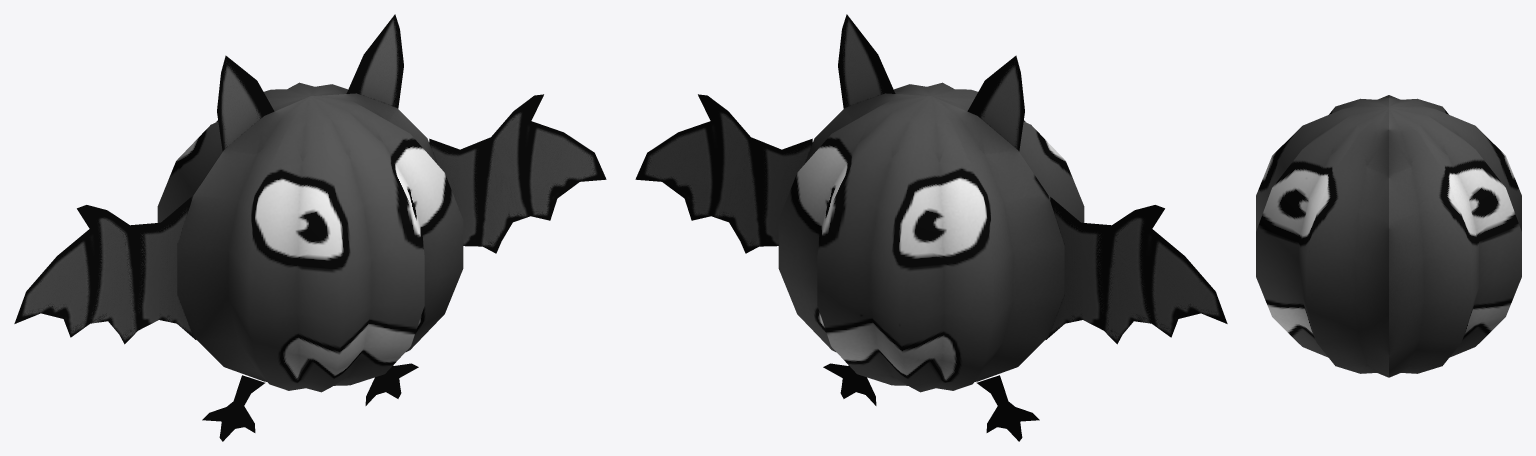
The model's file is HW_BatOrnament.fbx.
3 renders of one model, left to right at view 1: azimuth 30°, elevation 25°; view 2: azimuth 150°, elevation 25°; view 3: azimuth 270°, elevation 25°, orthographic. The views are drawn at different scales.
Parts seen in each view (by area): view 1: HW_BatOrnament; view 2: HW_BatOrnament; view 3: HW_BatOrnament.
Boxes of the visible parts, x1,y1,x2,y2 form: HW_BatOrnament: (14,14,606,441); HW_BatOrnament: (635,14,1227,441); HW_BatOrnament: (1256,95,1521,377).
Size of the model in its own units: 0.4824 by 0.3003 by 0.206.
Materials: 1 (1 with a texture image).
